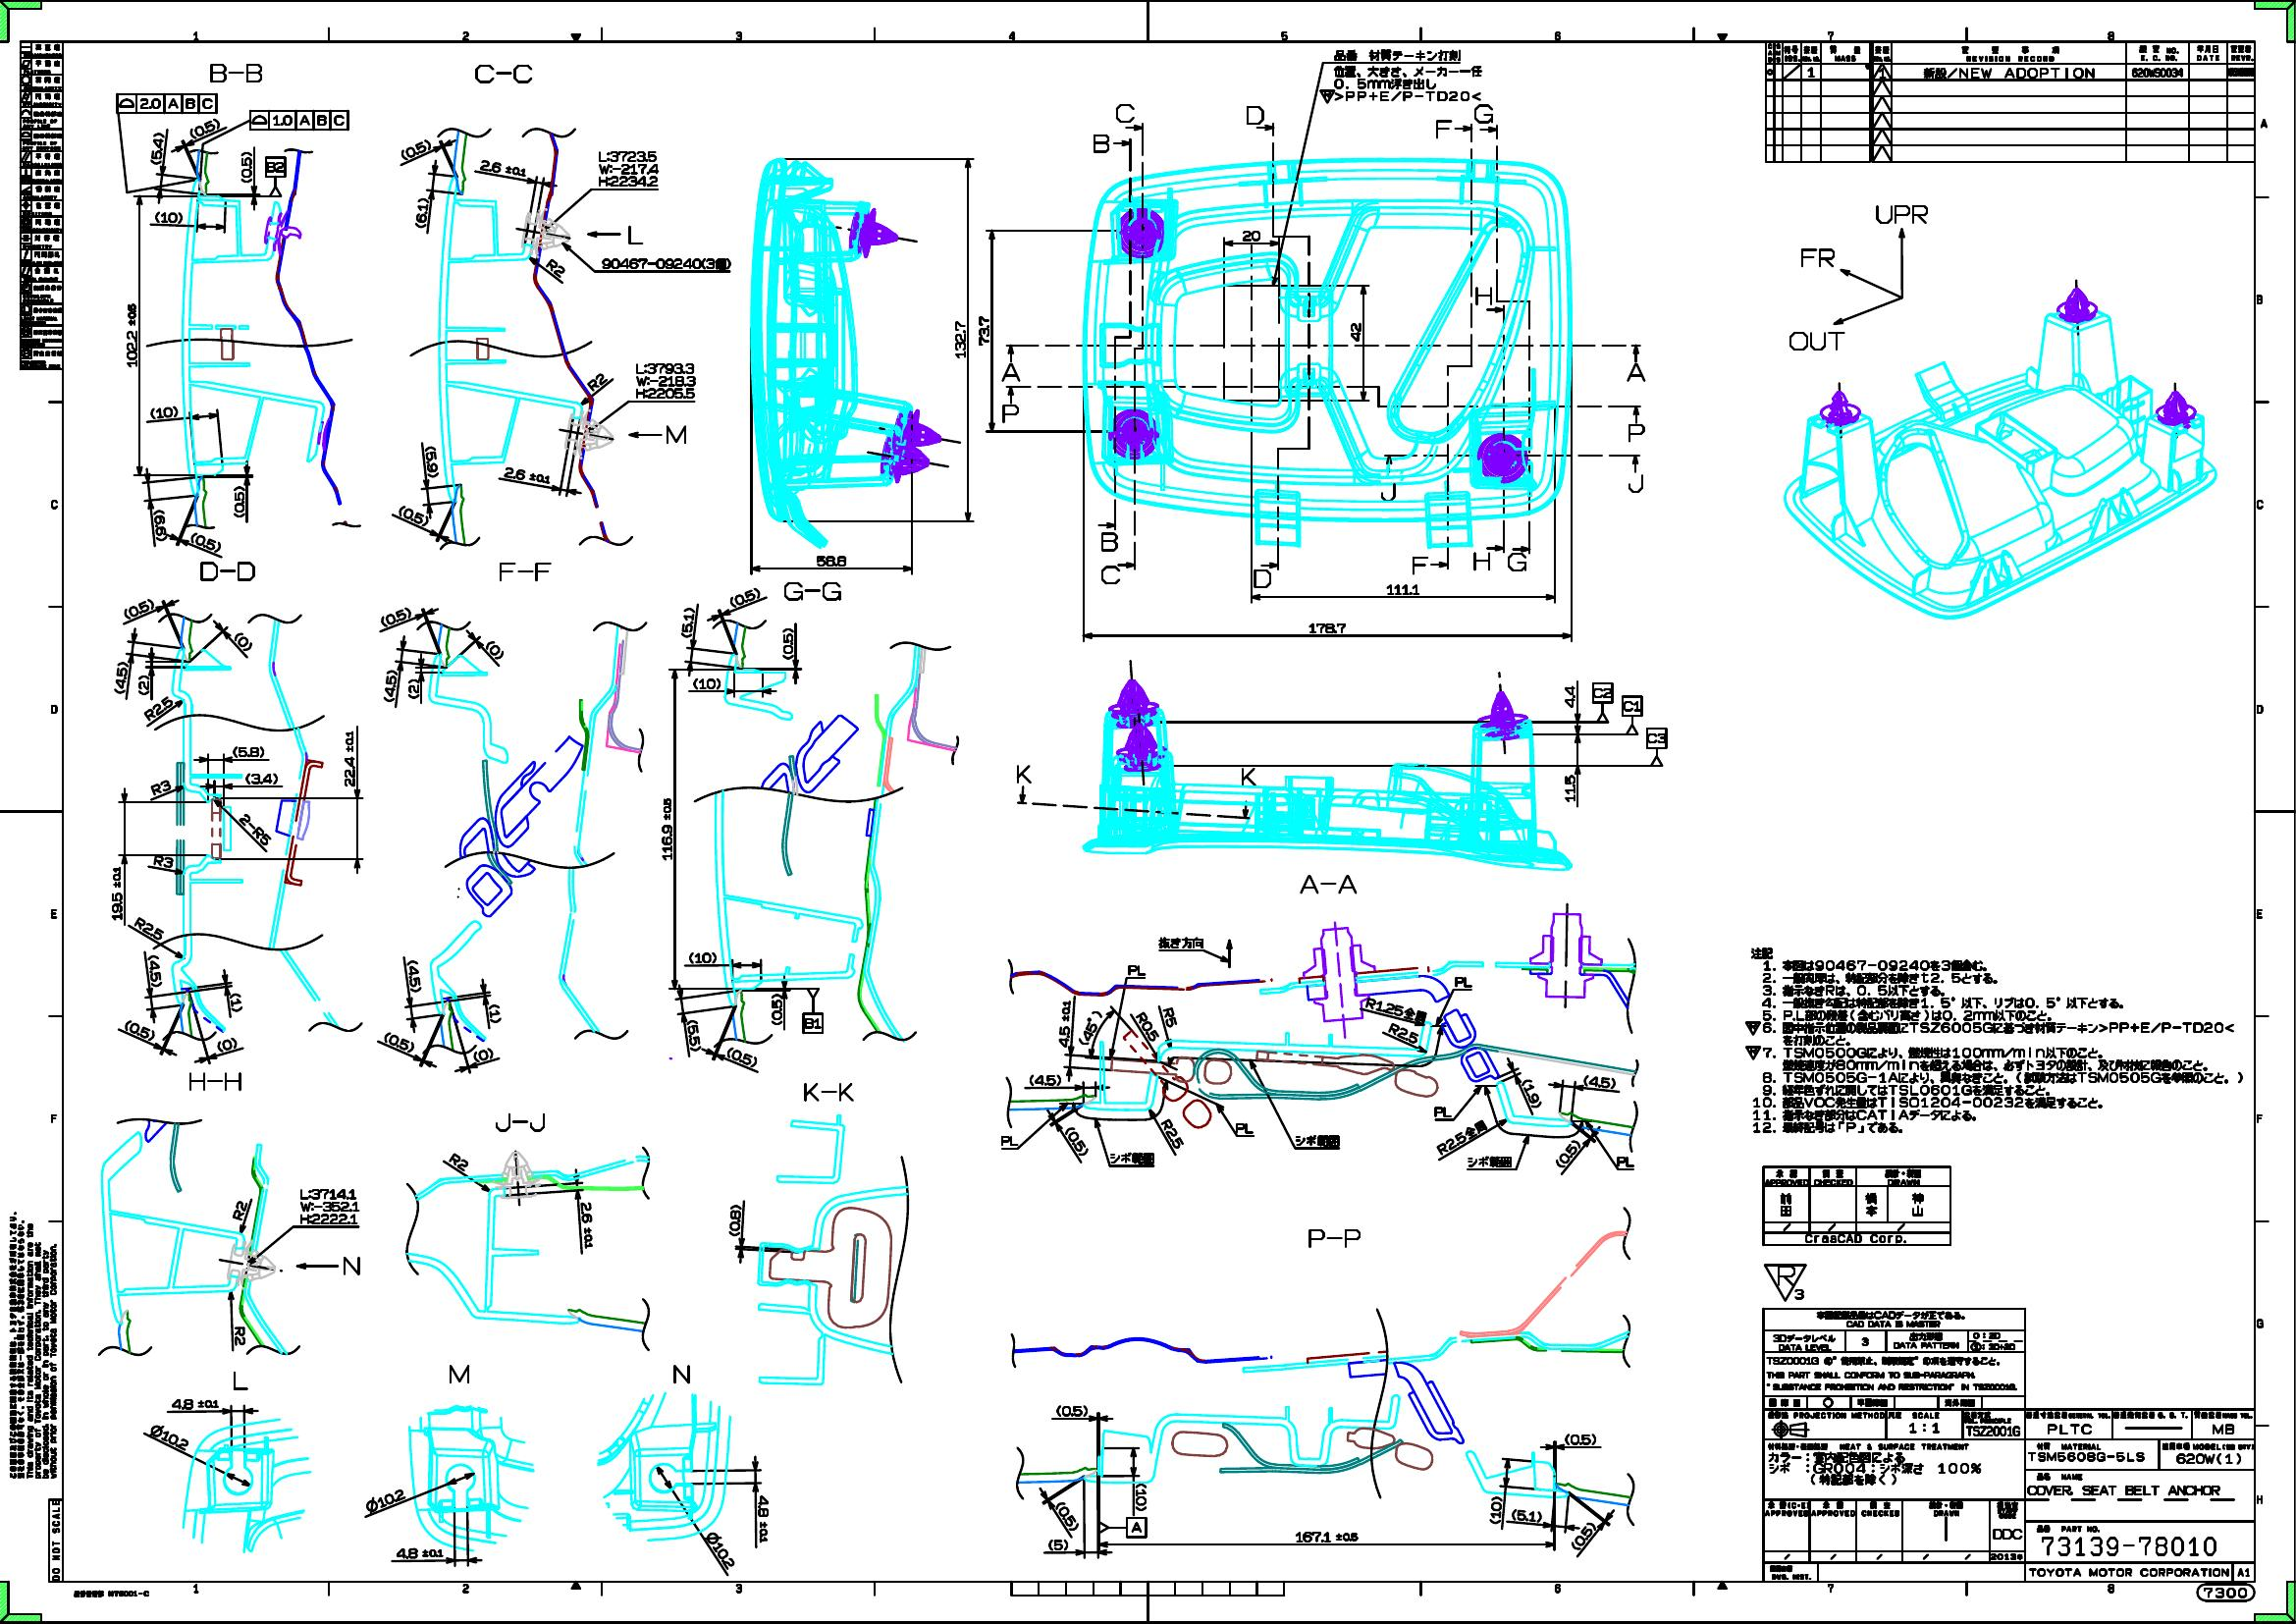anntotation_text: (1744, 947, 2243, 1134), (7, 1211, 58, 1478), (1318, 47, 1483, 104), (116, 93, 216, 112), (1764, 1262, 1808, 1302), (249, 111, 348, 128), (601, 257, 731, 269), (1298, 874, 1356, 895), (1788, 330, 1845, 352), (199, 561, 255, 582), (2196, 1584, 2256, 1603), (474, 63, 532, 83), (783, 582, 841, 601), (188, 1070, 241, 1091), (1307, 1229, 1360, 1248), (209, 63, 262, 83), (1874, 204, 1927, 223), (499, 562, 550, 582), (803, 1083, 854, 1102), (495, 1113, 545, 1132), (1365, 1004, 1426, 1016), (72, 1589, 151, 1598), (1801, 248, 1834, 267), (1158, 935, 1203, 949), (1433, 1132, 1490, 1142), (1467, 1155, 1513, 1167), (1108, 1151, 1154, 1164), (1295, 1135, 1340, 1146), (265, 156, 286, 178), (666, 424, 687, 445), (1646, 728, 1667, 749), (1126, 1517, 1147, 1536), (1000, 362, 1021, 381), (1100, 564, 1121, 584), (1253, 568, 1272, 589), (1625, 362, 1646, 381), (1592, 684, 1613, 703), (235, 824, 274, 835), (448, 1364, 469, 1383), (1142, 1011, 1154, 1042), (1116, 104, 1135, 123), (1245, 105, 1265, 125), (1474, 104, 1493, 123), (1507, 552, 1527, 571), (1621, 696, 1641, 715), (803, 1012, 822, 1032), (1100, 531, 1117, 552), (1472, 550, 1490, 571), (673, 1364, 690, 1383), (1433, 120, 1451, 139), (1474, 286, 1491, 306), (1001, 404, 1019, 424), (1627, 424, 1646, 441), (1015, 765, 1033, 784), (343, 1257, 360, 1276), (627, 225, 643, 244), (1093, 134, 1108, 153), (1381, 482, 1397, 501), (1412, 555, 1428, 575), (1627, 473, 1643, 492), (1240, 766, 1256, 786), (232, 1371, 248, 1390), (234, 1325, 246, 1346), (234, 1200, 246, 1220), (1453, 975, 1472, 988), (149, 782, 170, 793), (153, 856, 174, 866), (448, 1156, 469, 1167), (1433, 1106, 1451, 1118), (1165, 1007, 1175, 1026), (587, 376, 606, 387), (546, 262, 566, 272), (1235, 1123, 1254, 1134), (1126, 965, 1145, 975), (1616, 1156, 1634, 1167), (1000, 1135, 1017, 1146)
dimension_text: (597, 149, 659, 186), (299, 1188, 360, 1225), (636, 362, 696, 399), (1295, 1531, 1358, 1543), (661, 798, 673, 859), (126, 302, 137, 367), (111, 866, 123, 919), (713, 1529, 729, 1570), (395, 1547, 444, 1559), (757, 1494, 769, 1543), (148, 1429, 190, 1443), (364, 1492, 406, 1506), (480, 162, 527, 174), (1059, 1000, 1072, 1048), (581, 1202, 594, 1250), (344, 731, 355, 786), (504, 469, 550, 482), (1082, 1009, 1096, 1046), (170, 1399, 220, 1410), (954, 320, 966, 359), (148, 954, 162, 986), (415, 197, 429, 228), (383, 670, 397, 701), (1560, 1137, 1574, 1169), (132, 923, 165, 935), (114, 661, 126, 694), (151, 132, 163, 165), (188, 121, 221, 134), (425, 445, 437, 478), (397, 510, 430, 522), (379, 610, 413, 622), (408, 960, 420, 993), (1070, 1125, 1082, 1158), (1563, 1432, 1597, 1445), (232, 745, 264, 758), (142, 701, 174, 714), (123, 603, 155, 615), (190, 536, 221, 548), (232, 485, 244, 517), (241, 151, 253, 183), (682, 606, 694, 638), (729, 591, 761, 603), (383, 1035, 415, 1048), (687, 1019, 699, 1051), (1525, 1077, 1537, 1109), (1388, 1026, 1419, 1039), (1029, 1074, 1061, 1086), (1166, 1118, 1179, 1149), (1056, 1404, 1087, 1417), (1061, 1499, 1073, 1531), (1567, 1529, 1599, 1541), (123, 1025, 156, 1035), (244, 773, 278, 784), (155, 508, 165, 541), (399, 144, 432, 155), (1583, 1076, 1616, 1086), (149, 406, 177, 418), (155, 211, 183, 223), (689, 951, 717, 963), (692, 677, 720, 689), (1563, 773, 1576, 801), (1135, 1483, 1147, 1512), (1490, 1496, 1502, 1524), (815, 555, 847, 566), (978, 315, 989, 346), (782, 627, 792, 659), (726, 1051, 757, 1062), (771, 993, 782, 1025), (729, 1204, 740, 1236), (1511, 1510, 1542, 1520), (232, 634, 253, 649), (216, 1039, 237, 1051), (137, 675, 149, 696), (483, 643, 504, 656), (408, 678, 420, 700), (1563, 685, 1576, 707), (1047, 1538, 1068, 1550), (230, 993, 242, 1012), (1349, 322, 1361, 341), (488, 1004, 501, 1023), (473, 1049, 494, 1060), (1242, 228, 1260, 241)
object: (1080, 156, 1572, 548), (1012, 1229, 1632, 1508), (1007, 902, 1637, 1141), (1783, 278, 2217, 620), (1082, 659, 1572, 872), (713, 624, 956, 1042), (429, 624, 643, 1051), (748, 156, 961, 550), (437, 128, 610, 543), (170, 617, 337, 1037), (179, 149, 348, 529), (404, 1149, 650, 1332), (100, 1118, 286, 1355), (757, 1114, 908, 1385), (596, 1392, 733, 1541), (406, 1404, 536, 1554), (181, 1417, 313, 1554)
title_block: (1762, 1308, 2254, 1582), (1765, 40, 2256, 162), (1762, 1167, 1950, 1244), (19, 40, 63, 369)
